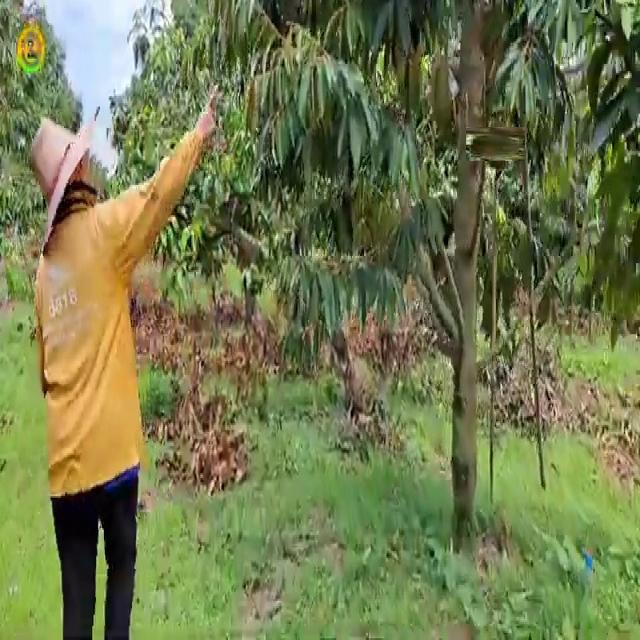durian: (472, 121, 518, 167)
